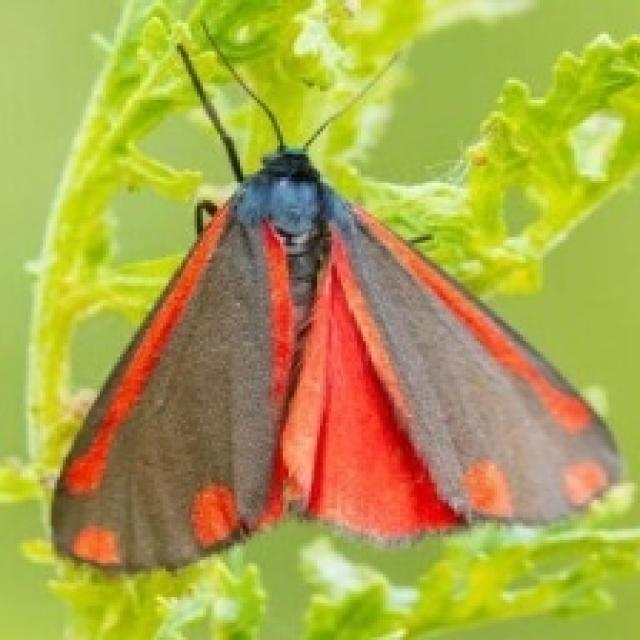butterfly: (46, 17, 623, 577)
